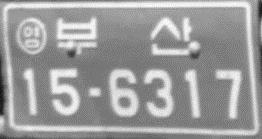-: (85, 84, 103, 99)
1: (18, 66, 42, 116), (180, 66, 202, 120)
3: (143, 66, 175, 118)
5: (48, 64, 83, 118)
6: (106, 66, 141, 117)
7: (212, 66, 244, 120)
부산_D: (54, 12, 193, 58)
영: (15, 16, 47, 56)
